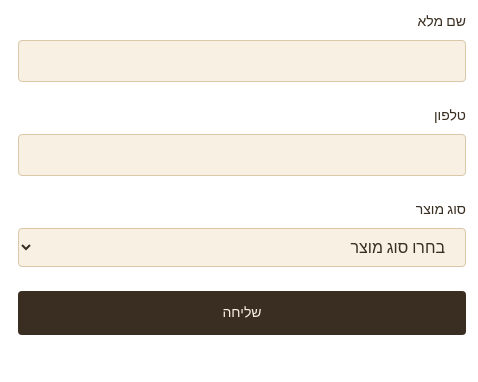
Test case: ContactForm › rejects an invalid phone number
Type "יעקב" into the field labelled "שם מלא" at (242, 61), box [18,40,466,82]
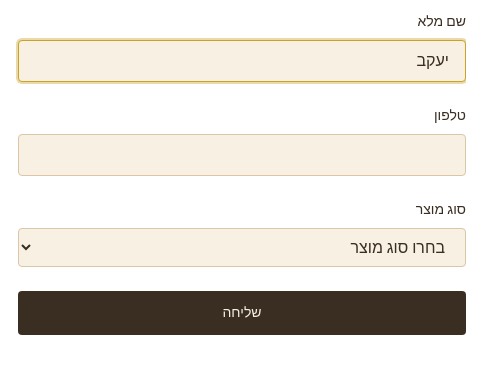
Type "123" into the field labelled "טלפון" at (242, 155), box [18,134,466,176]
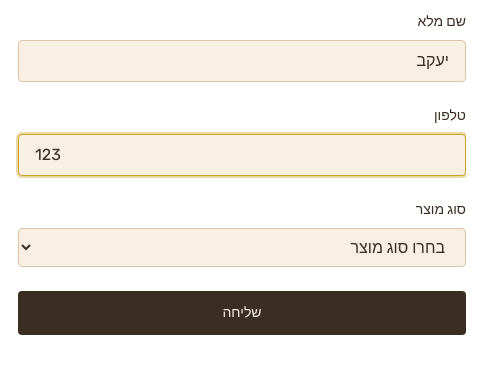
Select "וילונות" in the dropdown labelled "סוג מוצר" at (242, 248), box [18,228,466,267]
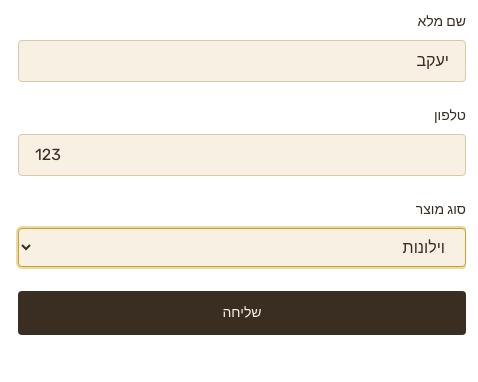
Click the button "שליחה" at (242, 313), box [18,291,466,335]
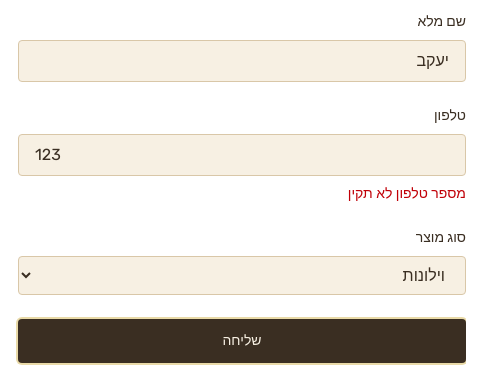
Check: the text "מספר טלפון לא תקין" is shown, box [348,185,466,202]
